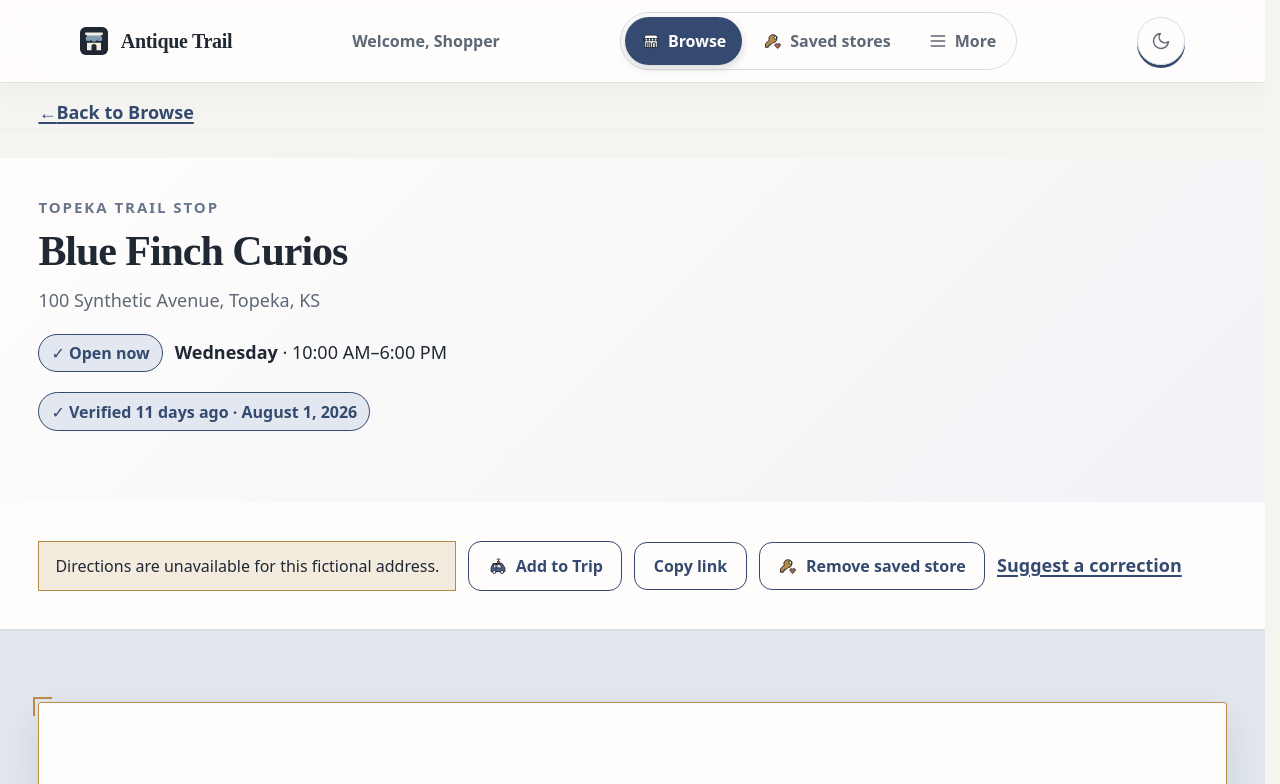
Test: configured Details Add to Trip entry › shows configured Shopper entry and opens the existing chooser for that store
Expected: the heading "Blue Finch Curios" is shown, [38, 228, 347, 274]
Click the link "Add to Trip" at coordinates (545, 566), box [468, 541, 622, 591]
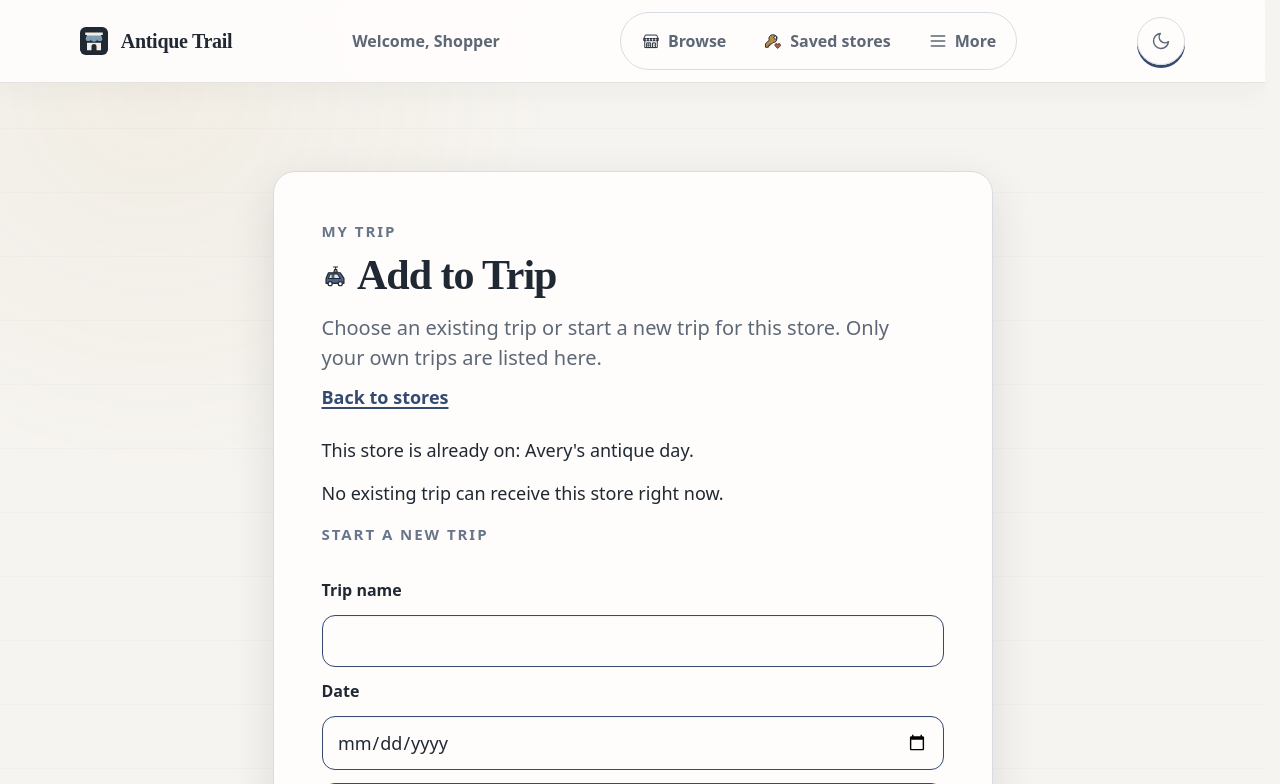
Expected: the heading "Add to Trip" is shown, [322, 252, 556, 298]
Expected: the text "This store is already on: Avery's antique day." is shown, [322, 438, 694, 462]
